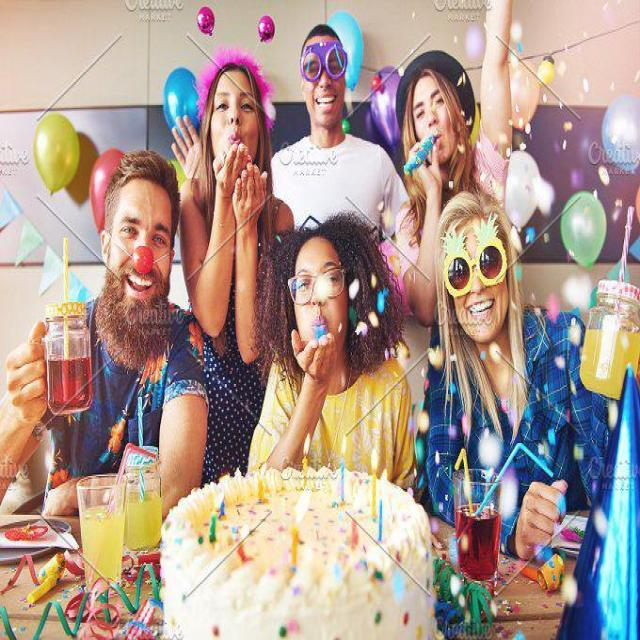person: (30, 152, 209, 512), (414, 225, 613, 546), (391, 1, 532, 252), (185, 59, 276, 380), (270, 32, 404, 244), (282, 238, 387, 487)
